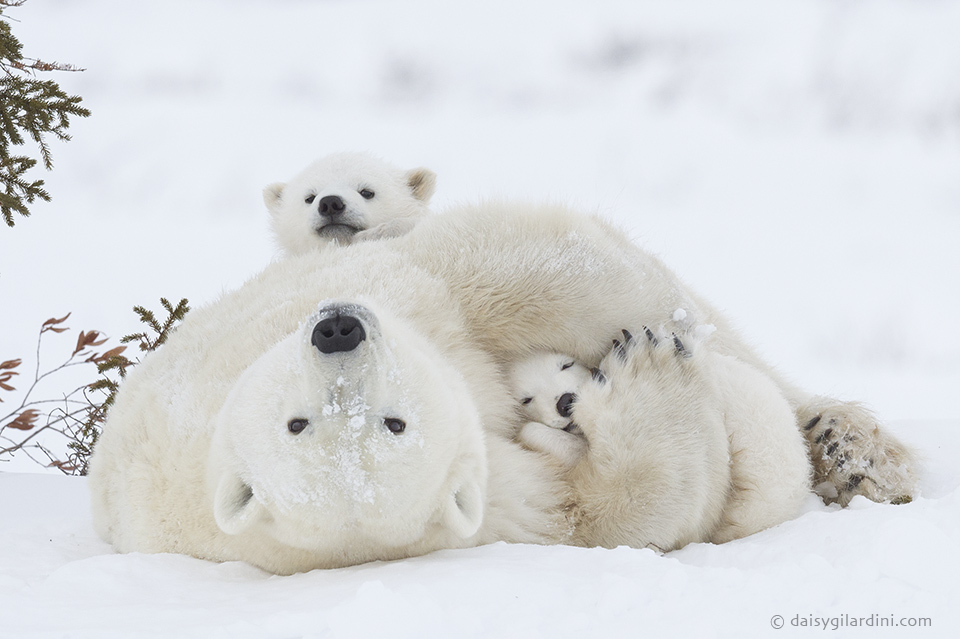Polar Bear: (161, 252, 511, 555), (219, 111, 480, 262)
